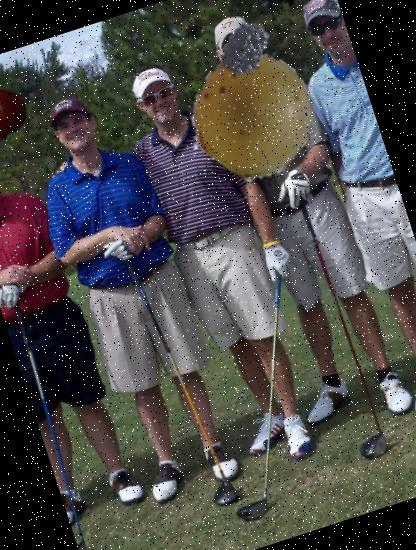Grape: (178, 38, 330, 190)
Mulberry: (210, 12, 283, 84)
Pomegranate: (0, 80, 34, 148)
